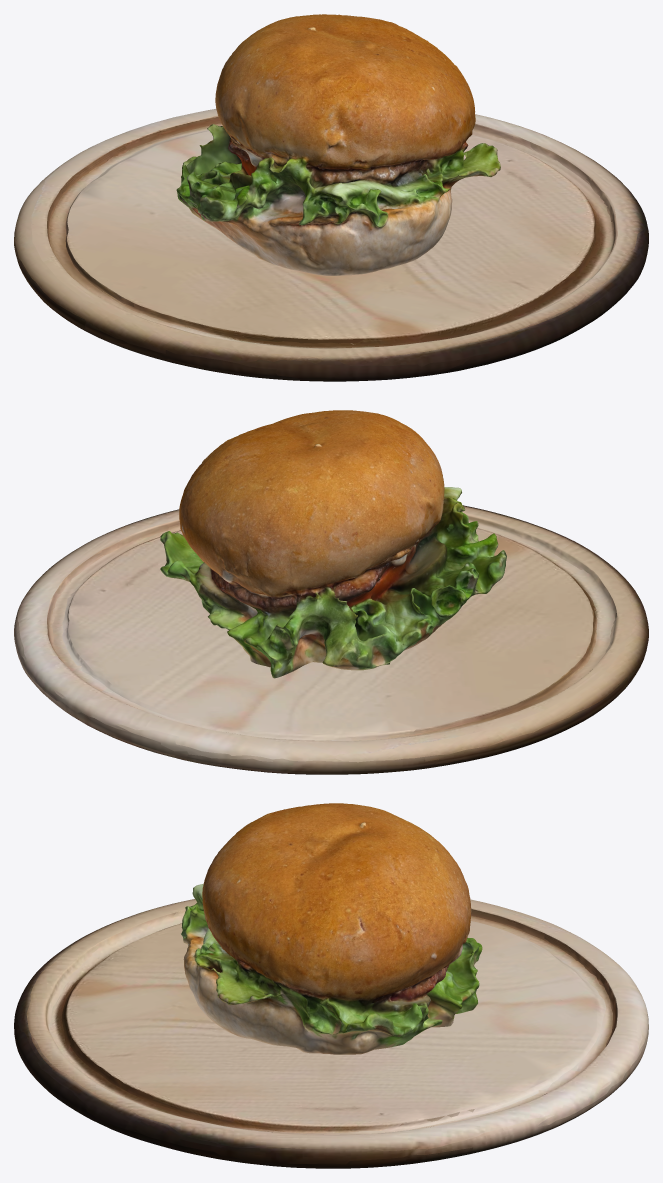
Rendered from classic.burger.glb.
The picture shows the model from 3 angles, top to bottom: view 1: azimuth 30°, elevation 25°; view 2: azimuth 150°, elevation 25°; view 3: azimuth 270°, elevation 25°; orthographic projection.
Parts seen in each view (by area): view 1: Submesh_0.001, 3DModel.001; view 2: Submesh_0.001, 3DModel.001; view 3: Submesh_0.001, 3DModel.001.
Boxes of the visible parts, <box> form: Submesh_0.001: <box>14,109,648,381</box>; 3DModel.001: <box>176,14,500,275</box>; Submesh_0.001: <box>14,505,648,774</box>; 3DModel.001: <box>160,410,506,678</box>; Submesh_0.001: <box>14,899,648,1168</box>; 3DModel.001: <box>181,803,482,1054</box>.
Size of the model in its own units: 0.2887 by 0.1085 by 0.2887.
2 materials, 2 textured.
